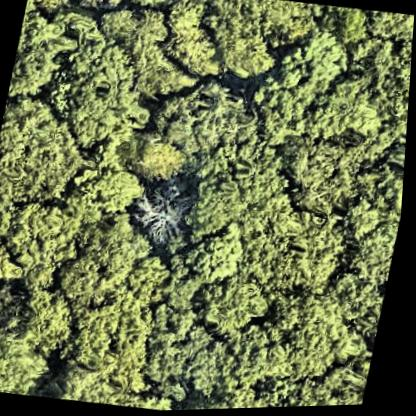tree-top: (47, 37, 148, 145), (100, 3, 197, 108), (264, 290, 366, 386), (0, 102, 88, 208), (156, 78, 259, 163), (75, 288, 165, 381), (201, 0, 317, 72), (331, 50, 413, 149), (268, 207, 356, 298), (196, 148, 289, 234), (2, 197, 89, 286), (285, 134, 374, 218), (63, 216, 145, 306), (8, 9, 78, 108), (149, 0, 235, 77), (273, 25, 359, 99), (340, 201, 405, 297), (196, 273, 279, 342), (182, 338, 256, 411), (75, 156, 152, 219), (130, 180, 199, 249), (0, 321, 60, 398), (16, 289, 84, 355), (186, 223, 251, 290), (58, 360, 144, 409), (162, 250, 220, 315), (133, 132, 197, 189), (309, 357, 373, 408), (130, 253, 180, 308), (366, 11, 415, 45), (265, 375, 312, 409), (223, 381, 278, 410), (25, 0, 103, 19), (115, 0, 187, 12), (0, 245, 11, 318)
